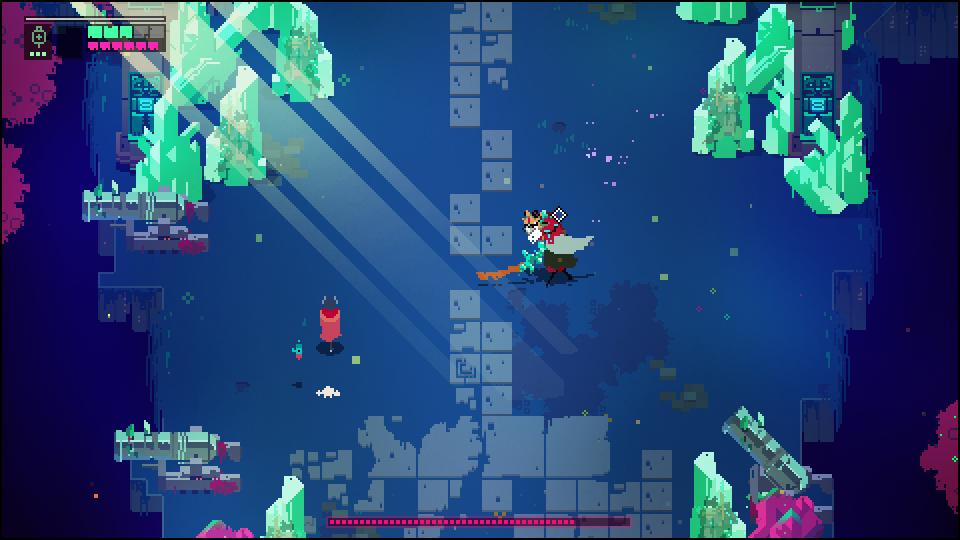hanged_man: (509, 204, 598, 293)
player: (318, 291, 343, 352)
